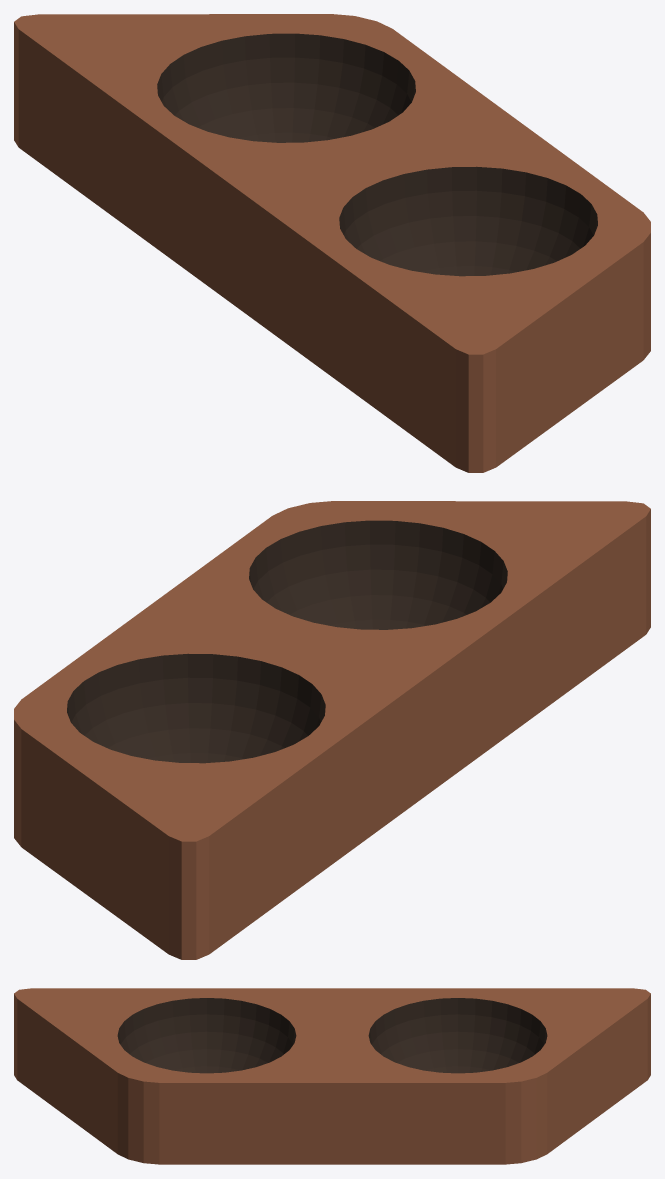
The model's file is Triangular Cannon Ball Holder 2 Ball.fbx.
The picture shows the model from 3 angles, top to bottom: view 1: azimuth 30°, elevation 25°; view 2: azimuth 150°, elevation 25°; view 3: azimuth 270°, elevation 25°; orthographic projection. The views are drawn at different scales.
Parts seen in each view (by area): view 1: Triangular Cannon Ball Holder 2 Ball; view 2: Triangular Cannon Ball Holder 2 Ball; view 3: Triangular Cannon Ball Holder 2 Ball.
Part boxes in pixels (x1,y1,x2,y2): Triangular Cannon Ball Holder 2 Ball: [14, 14, 650, 472]; Triangular Cannon Ball Holder 2 Ball: [14, 501, 650, 959]; Triangular Cannon Ball Holder 2 Ball: [14, 988, 650, 1164].
Size of the model in its own units: 250 by 101 by 712.
